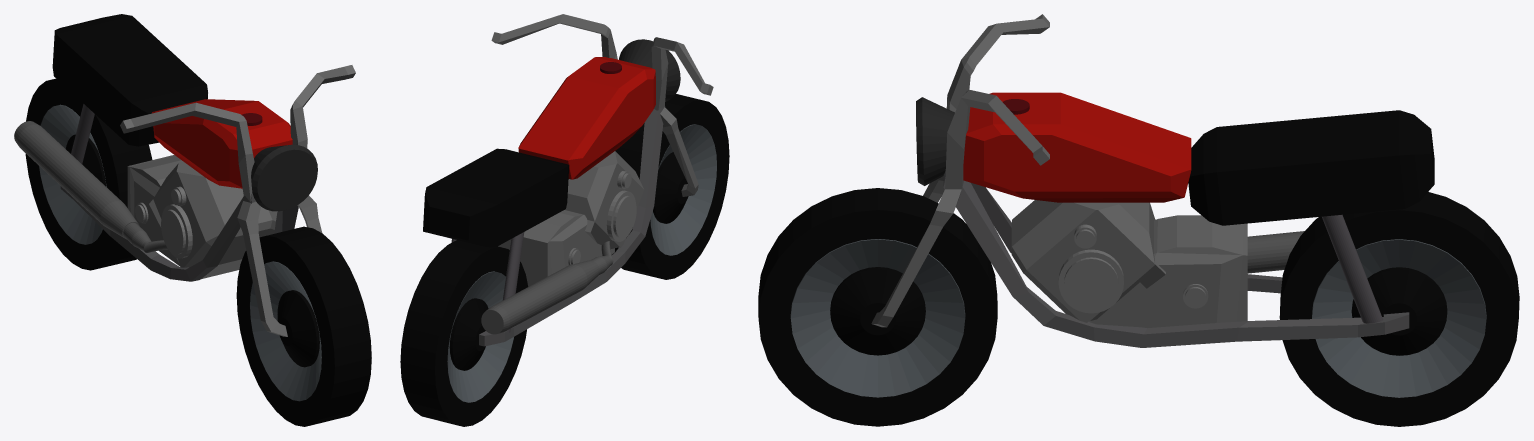
File: moto-moto-final 1.fbx
3 renders of one model, left to right at view 1: azimuth 30°, elevation 25°; view 2: azimuth 150°, elevation 25°; view 3: azimuth 270°, elevation 25°, orthographic. The views are drawn at different scales.
Parts seen in each view (by area): view 1: Cylinder, seat, wheelUp, Cylinder.009, Cube.003, exhaust, suspension; view 2: seat, Cylinder.009, Cylinder, Cube.003, wheelUp, suspension, exhaust; view 3: Cylinder, seat, Cylinder.009, Cube.003, suspension, wheelUp, exhaust.
Boxes of the visible parts, box(x1,y1,x2,y2) form: Cylinder: box(236, 226, 371, 426); seat: box(52, 14, 292, 188); wheelUp: box(120, 65, 355, 336); Cylinder.009: box(25, 78, 152, 270); Cube.003: box(127, 155, 277, 279); exhaust: box(14, 121, 168, 252); suspension: box(60, 104, 298, 281); seat: box(423, 57, 655, 247); Cylinder.009: box(400, 240, 528, 426); Cylinder: box(612, 94, 729, 279); Cube.003: box(498, 151, 644, 286); wheelUp: box(491, 14, 713, 196); suspension: box(451, 106, 665, 346); exhaust: box(481, 241, 613, 334); Cylinder: box(758, 188, 997, 426); seat: box(963, 92, 1434, 225); Cylinder.009: box(1279, 192, 1519, 426); Cube.003: box(1011, 200, 1247, 328); suspension: box(943, 171, 1409, 347); wheelUp: box(871, 14, 1049, 327); exhaust: box(1247, 231, 1304, 273).
Bounding box in the file's own units: 160 × 195 × 377.
